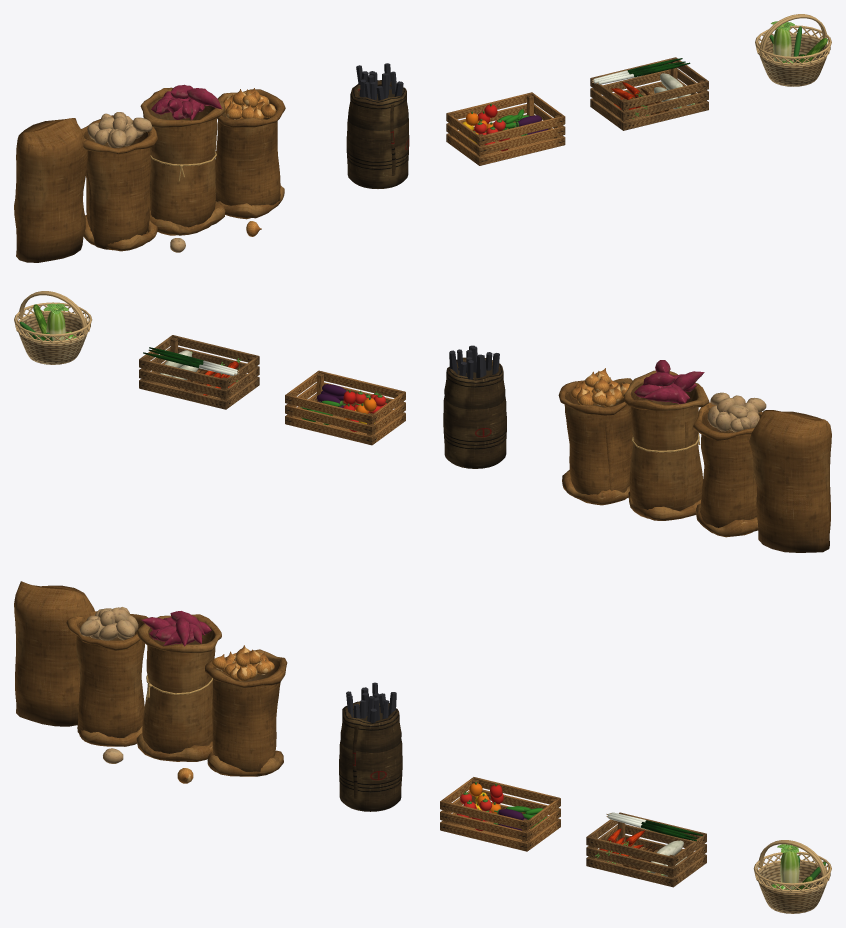
Rendered from produce.glb.
3 renders of one model, top to bottom at view 1: azimuth 30°, elevation 25°; view 2: azimuth 150°, elevation 25°; view 3: azimuth 330°, elevation 25°, orthographic.
Visible parts, largest first — view 1: ProduceSackSealed, ProduceSack1, ProduceSack0, ProduceSack2, CharcoalSackBody, VegBasketBody, ProduceSackEmpty1, VegCrateSide10, VegCrateSide11, VegCrateSide12, VegCrate2Side10, VegCrate2Side12 (+7 smaller); view 2: ProduceSackSealed, ProduceSack1, CharcoalSackBody, ProduceSack2, ProduceSack0, VegBasketBody, VegCrateSide-12, VegCrate2Side-10, VegCrateSide-10, VegCrate2Side-12, VegCrateSide-11, VegCrate2Side-11 (+7 smaller); view 3: ProduceSackSealed, ProduceSack1, ProduceSack0, ProduceSack2, CharcoalSackBody, VegBasketBody, ProduceSackEmpty1, ProduceSackEmpty2, VegCrateSide11, VegCrateSide12, VegCrateSide10, VegCrate2Side10 (+5 smaller).
Boxes of the visible parts, x1,y1,x2,y2 form: ProduceSackSealed: [14, 118, 87, 262]; ProduceSack1: [140, 87, 225, 227]; ProduceSack0: [81, 115, 157, 249]; ProduceSack2: [215, 89, 285, 205]; CharcoalSackBody: [346, 80, 409, 188]; VegBasketBody: [759, 35, 826, 86]; ProduceSackEmpty1: [149, 202, 225, 235]; VegCrateSide10: [478, 136, 565, 165]; VegCrateSide11: [478, 126, 565, 155]; VegCrateSide12: [478, 115, 565, 145]; VegCrate2Side10: [622, 101, 708, 130]; VegCrate2Side12: [622, 80, 708, 109]; ProduceSackSealed: [749, 410, 831, 552]; ProduceSack1: [624, 370, 709, 510]; CharcoalSackBody: [443, 357, 506, 468]; ProduceSack2: [558, 378, 633, 500]; ProduceSack0: [693, 402, 762, 527]; VegBasketBody: [18, 312, 87, 364]; VegCrateSide-12: [285, 394, 373, 424]; VegCrate2Side-10: [139, 379, 227, 409]; VegCrateSide-10: [285, 415, 373, 445]; VegCrate2Side-12: [139, 358, 227, 388]; VegCrateSide-11: [285, 405, 373, 434]; VegCrate2Side-11: [139, 369, 227, 399]; ProduceSackSealed: [14, 581, 94, 726]; ProduceSack1: [136, 614, 221, 753]; ProduceSack0: [66, 611, 148, 737]; ProduceSack2: [205, 649, 287, 776]; CharcoalSackBody: [339, 701, 402, 811]; VegBasketBody: [758, 861, 827, 913]; ProduceSackEmpty1: [136, 733, 212, 761]; ProduceSackEmpty2: [207, 750, 283, 776]; VegCrateSide11: [440, 811, 528, 840]; VegCrateSide12: [440, 800, 528, 830]; VegCrateSide10: [440, 821, 528, 851]; VegCrate2Side10: [586, 857, 674, 887].
Size of the model in its own units: 5.02 by 0.8121 by 0.6069.
39 materials, 21 textured.
